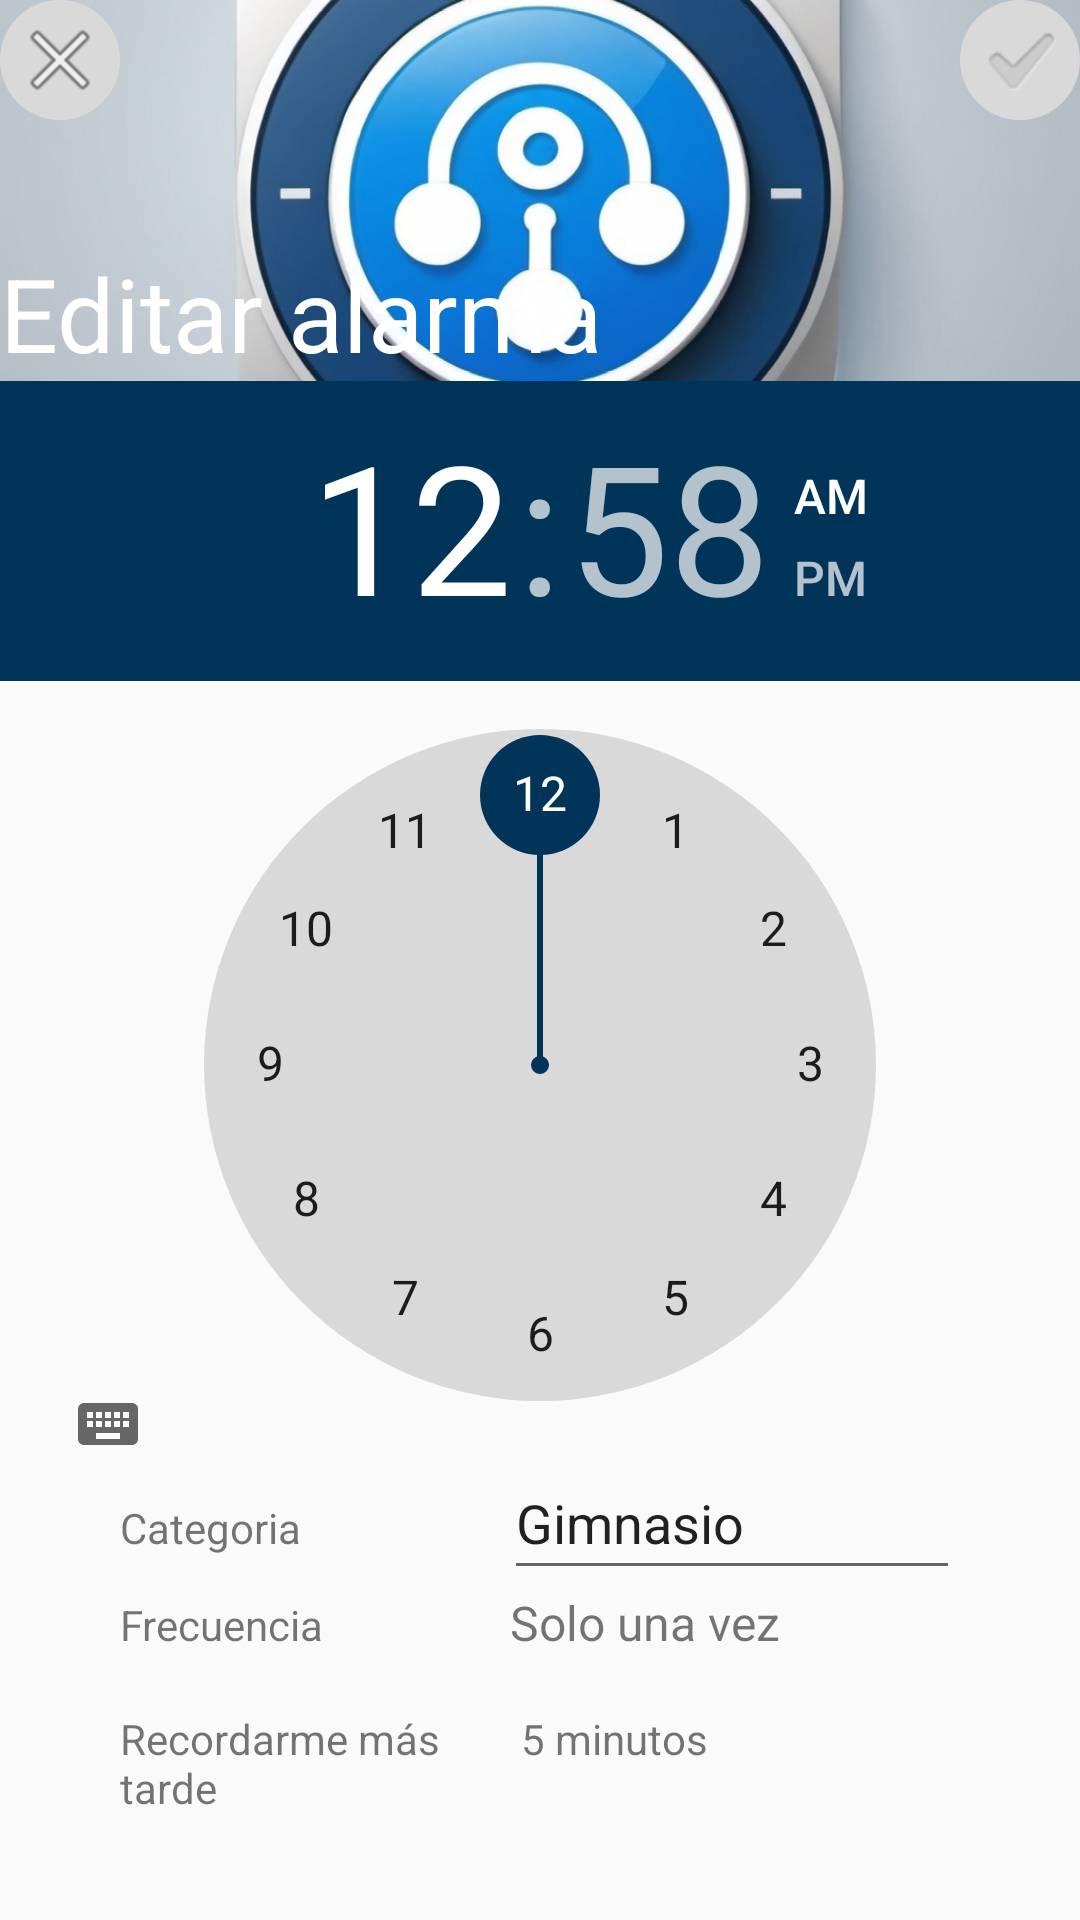

Icon click points for this 1080px x 1920px phone screenshot, format [x,y]:
close clear cancel: [60,60]
